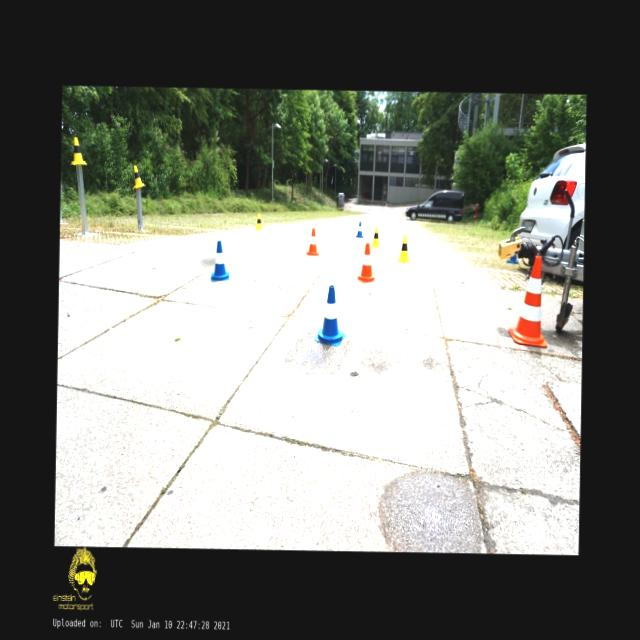blue_cone: (314, 284, 346, 346), (210, 240, 230, 280), (355, 220, 363, 237)
large_orange_cone: (507, 255, 548, 348)
orange_cone: (356, 242, 376, 282), (305, 228, 319, 255)
yellow_cone: (70, 136, 88, 164), (397, 234, 411, 262), (132, 165, 146, 188), (370, 226, 380, 246), (254, 213, 262, 230)
